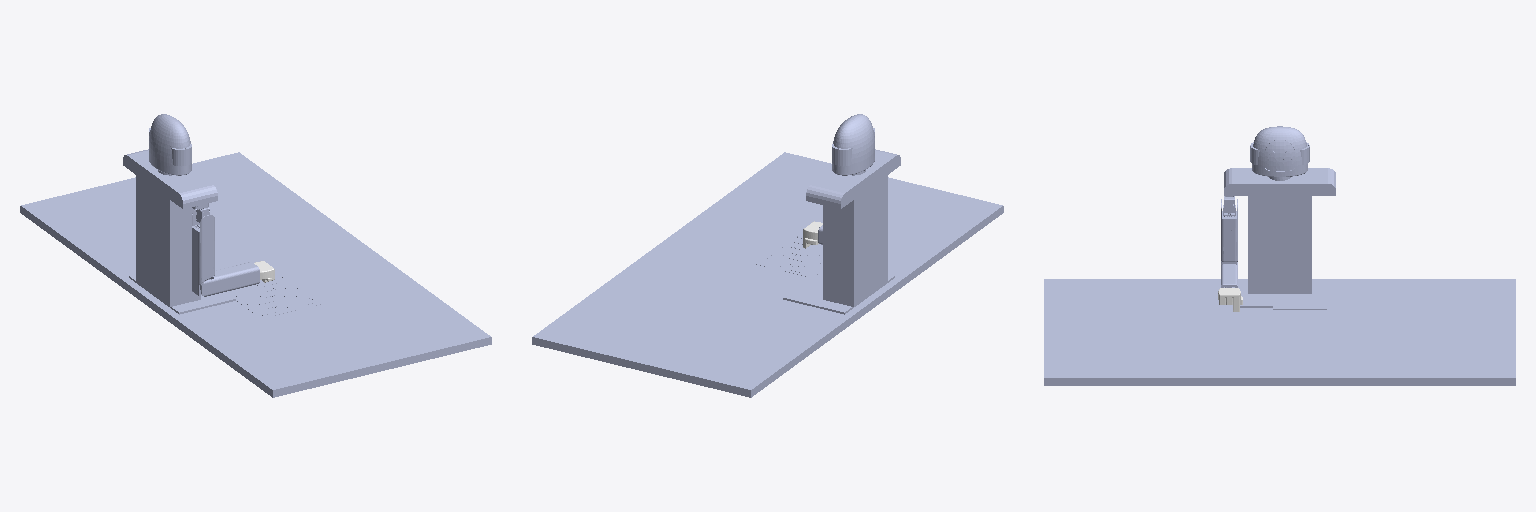
The robot description file, URDF, robot "bexter_urdf_final_combined":
<?xml version="1.0" encoding="utf-8" ?>
<!-- This URDF was automatically created by SolidWorks to URDF Exporter! Originally created by [author] ([email redacted]) 
     Commit Version: 1.6.0-4-g7f85cfe  Build Version: 1.6.7995.38578
     For more information, please see http://wiki.ros.org/sw_urdf_exporter -->
<robot name="bexter_urdf_final_combined">
    <link name="base_link">
        <inertial>
            <origin xyz="0.2616 -0.00030313 0.036246" rpy="0 0 0" />
            <mass value="34.554" />
            <inertia ixx="5.7729" ixy="-0.00016645" ixz="-0.00062495" iyy="1.467" iyz="-0.00017016" izz="7.1736" />
        </inertial>
        <visual>
            <origin xyz="0 0 0" rpy="0 0 0" />
            <geometry>
                <mesh filename="package://bexter_urdf_final_combined/meshes/base_link.STL" />
            </geometry>
            <material name="">
                <color rgba="0.79216 0.81961 0.93333 1" />
            </material>
        </visual>
        <collision>
            <origin xyz="0 0 0" rpy="0 0 0" />
            <geometry>
                <mesh filename="package://bexter_urdf_final_combined/meshes/base_link_collisional.STL" />
            </geometry>
        </collision>
    </link>
    <link name="link_0">
        <inertial>
            <origin xyz="-1.0459E-05 -0.00048941 -0.02575" rpy="0 0 0" />
            <mass value="0.045956" />
            <inertia ixx="1.1423E-05" ixy="5.2331E-09" ixz="4.4082E-09" iyy="1.0126E-05" iyz="-2.555E-07" izz="6.9187E-06" />
        </inertial>
        <visual>
            <origin xyz="0 0 0" rpy="0 0 0" />
            <geometry>
                <mesh filename="package://bexter_urdf_final_combined/meshes/link_0.STL" />
            </geometry>
            <material name="">
                <color rgba="0.79216 0.81961 0.93333 1" />
            </material>
        </visual>
        <collision>
            <origin xyz="0 0 0" rpy="0 0 0" />
            <geometry>
                <mesh filename="package://bexter_urdf_final_combined/meshes/link_0_collisional.STL" />
            </geometry>
        </collision>
    </link>
    <joint name="joint_1" type="revolute">
        <origin xyz="0.026793 -0.1635 0.33675" rpy="0 0 0" />
        <parent link="base_link" />
        <child link="link_0" />
        <axis xyz="0 0 1" />
        <limit lower="-1.57" upper="1.57" effort="1.4" velocity="3.14" />
    </joint>
    <link name="link_1">
        <inertial>
            <origin xyz="-0.00089873 1.0165E-05 -0.12022" rpy="0 0 0" />
            <mass value="0.27455" />
            <inertia ixx="0.00062259" ixy="4.4646E-09" ixz="-2.7251E-05" iyy="0.00066973" iyz="2.5518E-07" izz="9.9719E-05" />
        </inertial>
        <visual>
            <origin xyz="0 0 0" rpy="0 0 0" />
            <geometry>
                <mesh filename="package://bexter_urdf_final_combined/meshes/link_1.STL" />
            </geometry>
            <material name="">
                <color rgba="0.79216 0.81961 0.93333 1" />
            </material>
        </visual>
        <collision>
            <origin xyz="0 0 0" rpy="0 0 0" />
            <geometry>
                <mesh filename="package://bexter_urdf_final_combined/meshes/link_1_collisional.STL" />
            </geometry>
        </collision>
    </link>
    <joint name="joint_2" type="revolute">
        <origin xyz="0 0 -0.0386" rpy="0 0 0" />
        <parent link="link_0" />
        <child link="link_1" />
        <axis xyz="0 1 0" />
        <limit lower="-1.57" upper="1.57" effort="1.4" velocity="3.14" />
    </joint>
    <link name="link_2">
        <inertial>
            <origin xyz="0.096414 -8.3957E-07 -3.058E-05" rpy="0 0 0" />
            <mass value="0.2174" />
            <inertia ixx="8.5594E-05" ixy="1.3129E-14" ixz="5.2867E-14" iyy="0.00051595" iyz="-6.2811E-10" izz="0.00047252" />
        </inertial>
        <visual>
            <origin xyz="0 0 0" rpy="0 0 0" />
            <geometry>
                <mesh filename="package://bexter_urdf_final_combined/meshes/link_2.STL" />
            </geometry>
            <material name="">
                <color rgba="0.79216 0.81961 0.93333 1" />
            </material>
        </visual>
        <collision>
            <origin xyz="0 0 0" rpy="0 0 0" />
            <geometry>
                <mesh filename="package://bexter_urdf_final_combined/meshes/link_2_collisional.STL" />
            </geometry>
        </collision>
    </link>
    <joint name="joint_3" type="revolute">
        <origin xyz="0 -6.2E-05 -0.2209" rpy="0 0 0" />
        <parent link="link_1" />
        <child link="link_2" />
        <axis xyz="0 -1 0" />
        <limit lower="-1.57" upper="1.57" effort="1.4" velocity="3.14" />
    </joint>
    <link name="end_effector">
        <inertial>
            <origin xyz="-0.02175 0.13529 0.035046" rpy="0 0 0" />
            <mass value="0.2174" />
            <inertia ixx="3.4269" ixy="-0.01472" ixz="0.36166" iyy="1.5996" iyz="0.008637" izz="3.8564" />
        </inertial>
        <visual>
            <origin xyz="0 0 0" rpy="0 0 0" />
            <geometry>
                <mesh filename="package://bexter_urdf_final_combined/meshes/end_effector.STL" />
            </geometry>
            <material name="">
                <color rgba="1 1 1 1" />
            </material>
        </visual>
        <collision>
            <origin xyz="0 0 0" rpy="0 0 0" />
            <geometry>
                <mesh filename="package://bexter_urdf_final_combined/meshes/end_effector_collisional.STL" />
            </geometry>
        </collision>
    </link>
    <joint name="joint_end_effecot" type="fixed">
        <origin xyz="0.22568 0.022495 -0.04826" rpy="0 0 0" />
        <parent link="link_2" />
        <child link="end_effector" />
        <axis xyz="0 0 0" />
    </joint>
    <transmission name="trans_joint_1">
        <type>transmission_interface/SimpleTransmission</type>
        <joint name="joint_1">
            <hardwareInterface>hardware_interface/EffortJointInterface</hardwareInterface>
        </joint>
        <actuator name="joint_1_motor">
            <hardwareInterface>hardware_interface/EffortJointInterface</hardwareInterface>
            <mechanicalReduction>1</mechanicalReduction>
        </actuator>
    </transmission>
    <transmission name="trans_joint_2">
        <type>transmission_interface/SimpleTransmission</type>
        <joint name="joint_2">
            <hardwareInterface>hardware_interface/EffortJointInterface</hardwareInterface>
        </joint>
        <actuator name="joint_2_motor">
            <hardwareInterface>hardware_interface/EffortJointInterface</hardwareInterface>
            <mechanicalReduction>1</mechanicalReduction>
        </actuator>
    </transmission>
    <transmission name="trans_joint_3">
        <type>transmission_interface/SimpleTransmission</type>
        <joint name="joint_3">
            <hardwareInterface>hardware_interface/EffortJointInterface</hardwareInterface>
        </joint>
        <actuator name="joint_3_motor">
            <hardwareInterface>hardware_interface/EffortJointInterface</hardwareInterface>
            <mechanicalReduction>1</mechanicalReduction>
        </actuator>
    </transmission>
    <gazebo>
        <plugin name="gazebo_ros_control">
            <robotNamespace>/</robotNamespace>
        </plugin>
    </gazebo>
</robot>

--- What the picture shows (computed from the rendered views, not written in the file) ---
3 views of the same robot in one strip: view 1: azimuth 30°, elevation 25°; view 2: azimuth 150°, elevation 25°; view 3: azimuth 270°, elevation 25° (orthographic).
Robot: bexter_urdf_final_combined — 5 links, 4 joints (3 revolute, 1 fixed); root link base_link; default pose: every joint at zero.
Visible links, largest first — view 1: base_link, link_1, link_2; view 2: base_link; view 3: base_link, link_1.
Link boxes in pixels (x1=…): base_link: x1=20, y1=114, x2=491, y2=397; link_1: x1=192, y1=210, x2=214, y2=295; link_2: x1=201, y1=262, x2=259, y2=296; base_link: x1=532, y1=114, x2=1003, y2=397; base_link: x1=1044, y1=126, x2=1515, y2=385; link_1: x1=1221, y1=199, x2=1237, y2=264.
Size in the robot's own frame: 0.762 by 1.52 by 0.6048 metres.
Meshes: 5 distinct files referenced, 5 mesh visuals loaded (5 binary STL).